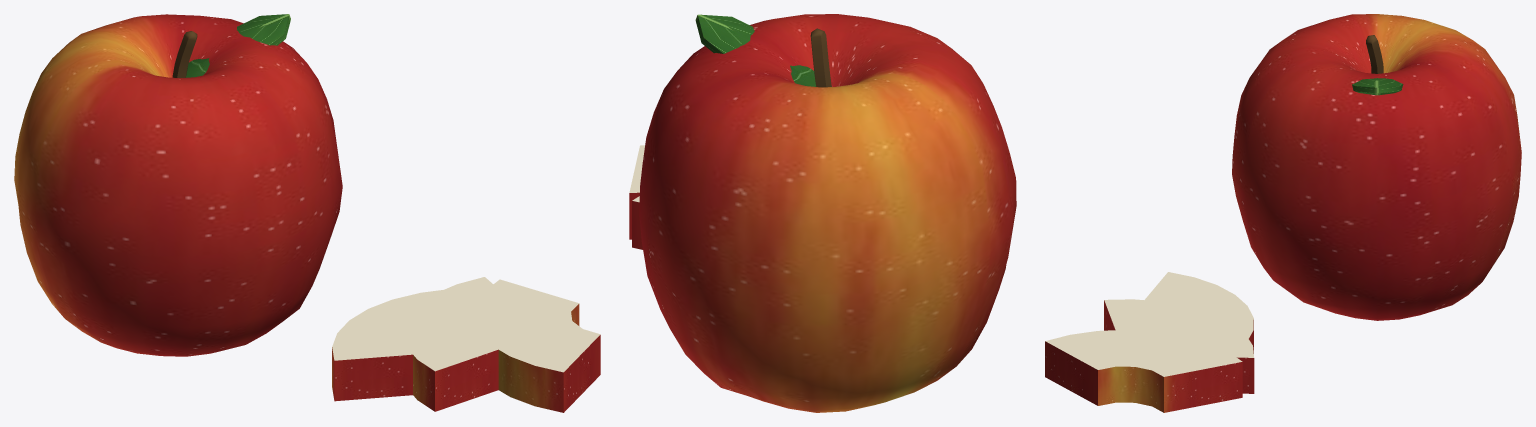
Rendered from fruit_apple_red_and_slice.glb.
The picture shows the model from 3 angles, left to right: view 1: azimuth 30°, elevation 25°; view 2: azimuth 150°, elevation 25°; view 3: azimuth 270°, elevation 25°; orthographic projection. The views are drawn at different scales.
Parts seen in each view (by area): view 1: fruit_apple_red_and_slice; view 2: fruit_apple_red_and_slice; view 3: fruit_apple_red_and_slice.
Part boxes in pixels (x1,y1,x2,y2): fruit_apple_red_and_slice: [14, 14, 600, 412]; fruit_apple_red_and_slice: [629, 14, 1016, 412]; fruit_apple_red_and_slice: [1045, 14, 1521, 412].
Size of the model in its own units: 0.1204 by 0.08 by 0.1321.
Materials: 4 (2 with a texture image).
